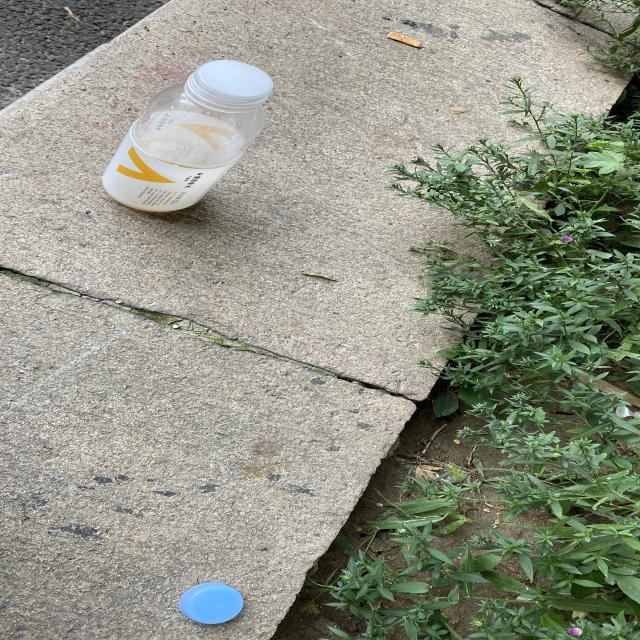Anorganik: (97, 46, 285, 231)
